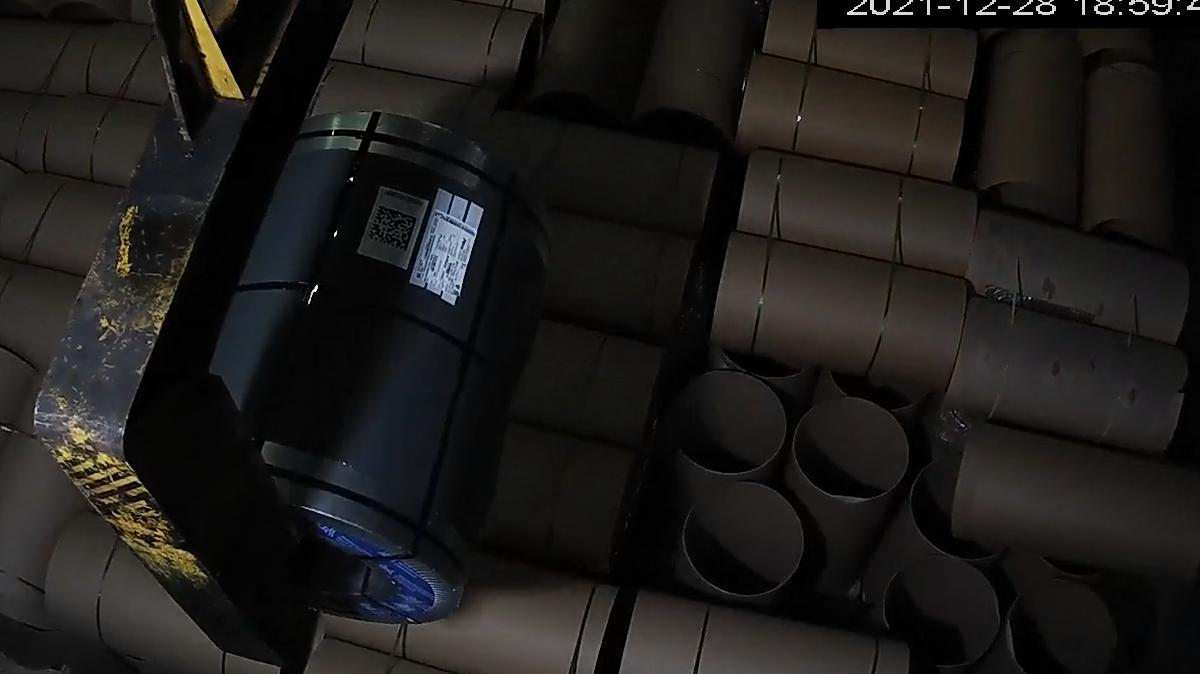data matrix: (366, 203, 421, 256)
